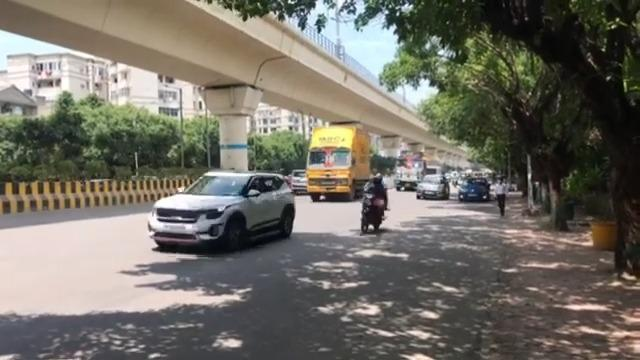Bike: (360, 172, 390, 234)
Truck: (305, 126, 371, 204), (392, 144, 428, 190)
